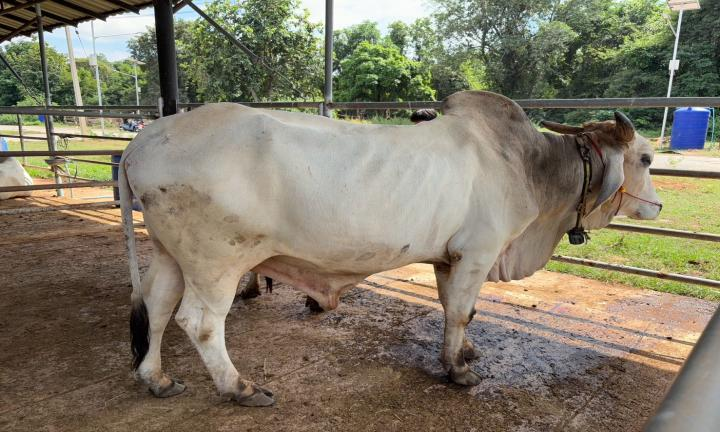Brahman: (118, 91, 659, 405)
